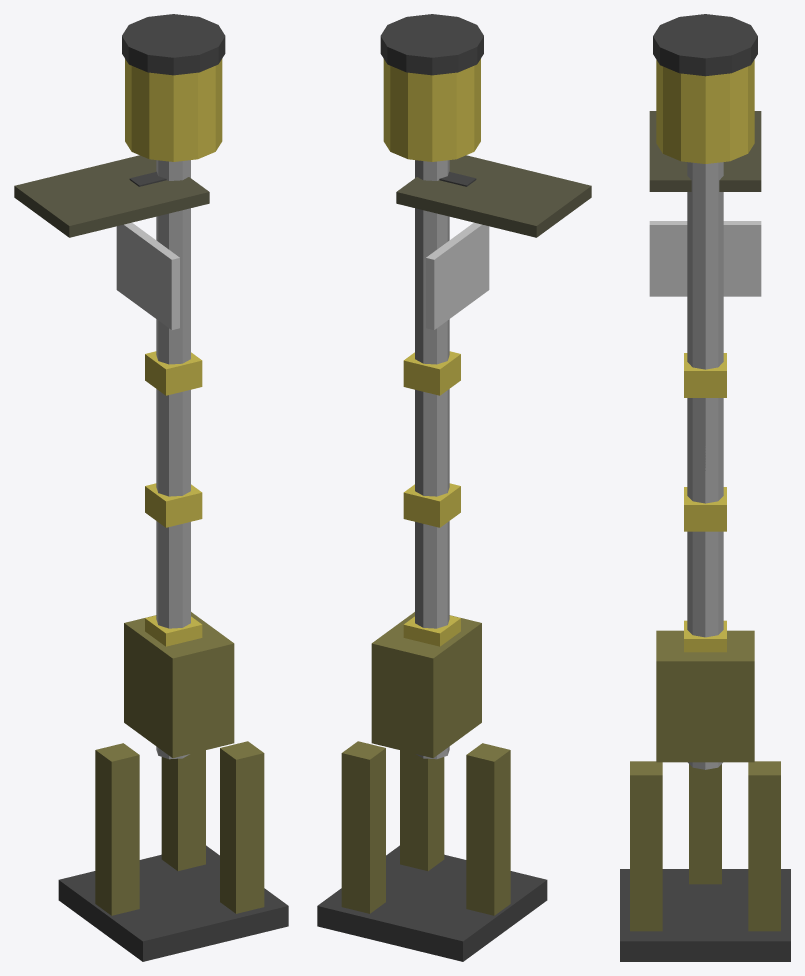
Rendered from SM_SurvivalEvacBeacon.glb.
3 views of the same model, side by side, from view 1: azimuth 30°, elevation 25°; view 2: azimuth 150°, elevation 25°; view 3: azimuth 270°, elevation 25° (orthographic).
Visible parts, largest first — view 1: battery, base_plate, pole, solar_fin, strobe, leg0, leg2, strobe_cap, leg1, sign, band1, band2 (+1 smaller); view 2: battery, base_plate, pole, solar_fin, strobe, leg0, leg1, strobe_cap, leg2, sign, band1, band2 (+1 smaller); view 3: pole, battery, base_plate, strobe, sign, leg1, leg2, strobe_cap, leg0, solar_fin, band1, band2 (+1 smaller).
Boxes of the visible parts, x1=… form: battery: x1=124, y1=612, x2=234, y2=757; base_plate: x1=58, y1=845, x2=288, y2=961; pole: x1=156, y1=160, x2=190, y2=759; solar_fin: x1=14, y1=155, x2=209, y2=237; strobe: x1=125, y1=59, x2=222, y2=161; leg0: x1=95, y1=743, x2=139, y2=915; leg2: x1=220, y1=741, x2=264, y2=913; strobe_cap: x1=122, y1=14, x2=225, y2=75; leg1: x1=161, y1=750, x2=205, y2=870; sign: x1=116, y1=222, x2=179, y2=329; band1: x1=145, y1=483, x2=202, y2=527; band2: x1=145, y1=351, x2=202, y2=395; battery: x1=371, y1=612, x2=481, y2=757; base_plate: x1=317, y1=845, x2=547, y2=961; pole: x1=415, y1=160, x2=449, y2=759; solar_fin: x1=396, y1=155, x2=591, y2=237; strobe: x1=383, y1=59, x2=480, y2=161; leg0: x1=466, y1=743, x2=510, y2=915; leg1: x1=341, y1=741, x2=385, y2=913; strobe_cap: x1=380, y1=14, x2=483, y2=75; leg2: x1=400, y1=750, x2=444, y2=870; sign: x1=426, y1=222, x2=489, y2=329; band1: x1=403, y1=483, x2=460, y2=527; band2: x1=403, y1=351, x2=460, y2=395; pole: x1=687, y1=162, x2=723, y2=769; battery: x1=656, y1=630, x2=754, y2=762; base_plate: x1=620, y1=869, x2=790, y2=961; strobe: x1=656, y1=60, x2=754, y2=163; sign: x1=649, y1=221, x2=761, y2=296; leg1: x1=748, y1=761, x2=780, y2=931; leg2: x1=630, y1=761, x2=662, y2=931; strobe_cap: x1=653, y1=14, x2=757, y2=76; leg0: x1=689, y1=764, x2=721, y2=884; solar_fin: x1=649, y1=111, x2=761, y2=191; band1: x1=684, y1=487, x2=726, y2=531; band2: x1=684, y1=353, x2=726, y2=397.
Size of the model in its own units: 0.73 by 2.99 by 0.52.
